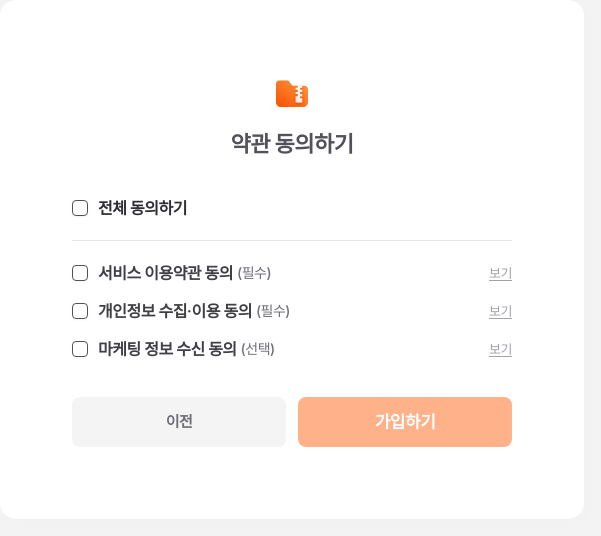
Test: SignupTermsForm › enables signup after both required agreements are accepted
This screenshot has width=601, height=536.
expect the button "가입하기" is disabled: met, box [298,397,512,447]
expect the number of links "보기" is 3: met, box [489,263,512,283]; [489,301,512,321]; [489,339,512,359]
Click the checkbox named "서비스 이용약관 동의" next to "서비스 이용약관 동의": (80, 273) [72,265,88,281]
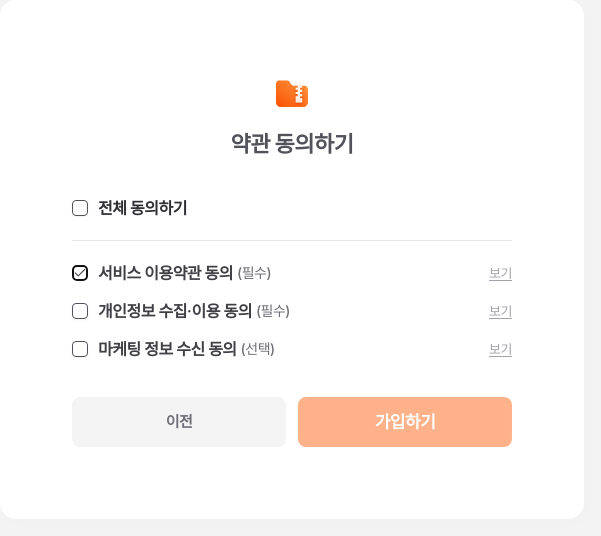
Click the checkbox named "개인정보 수집·이용 동의" next to "개인정보 수집·이용 동의": (80, 311) [72,303,88,319]
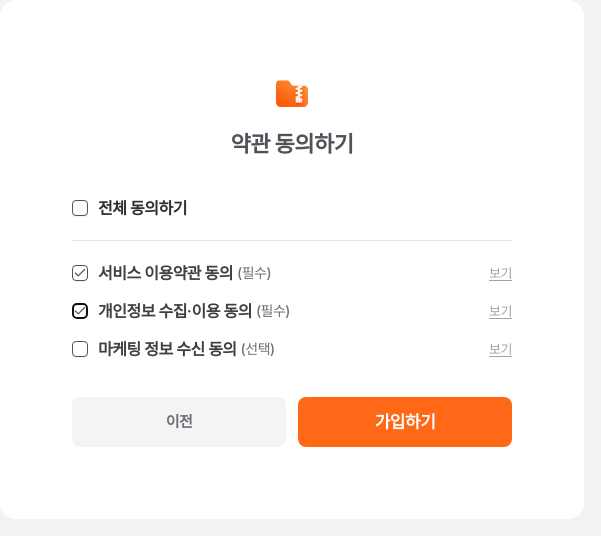
expect the button "가입하기" is enabled: met, box [298,397,512,447]
